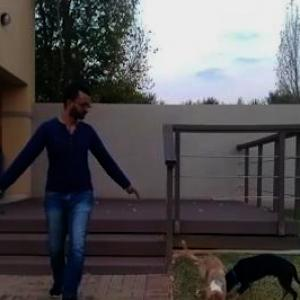land: (1, 70, 157, 299)
